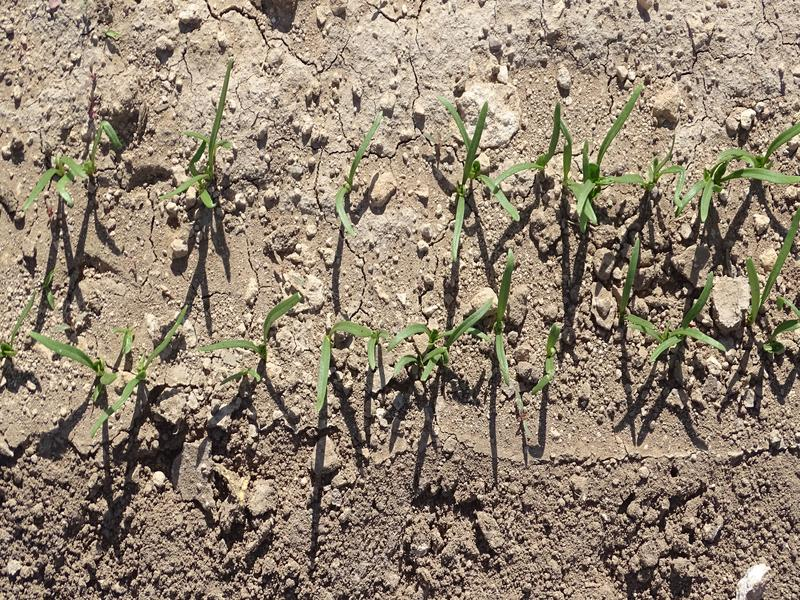Espinaca: (314, 254, 524, 414), (33, 303, 190, 434), (429, 108, 538, 259), (620, 240, 723, 377), (666, 114, 800, 210), (551, 104, 644, 225), (169, 55, 238, 204), (736, 216, 799, 359), (23, 121, 119, 211), (329, 107, 387, 233), (202, 288, 304, 357), (538, 319, 570, 390)
